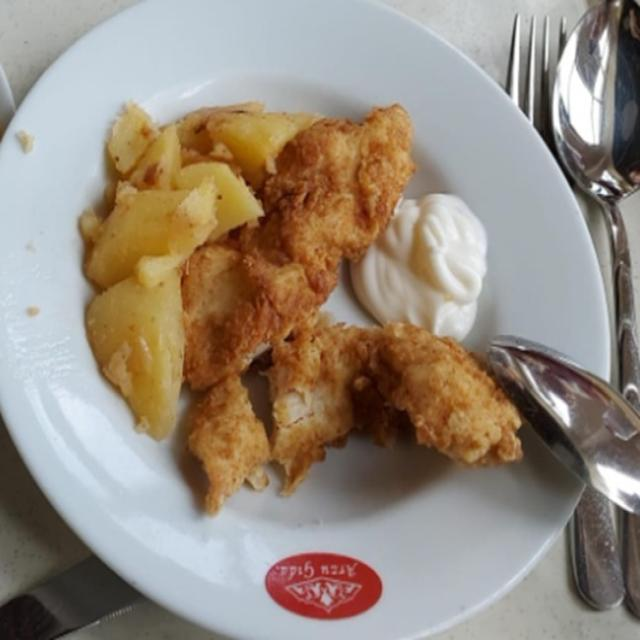ana_yemek: (2, 2, 604, 633)
